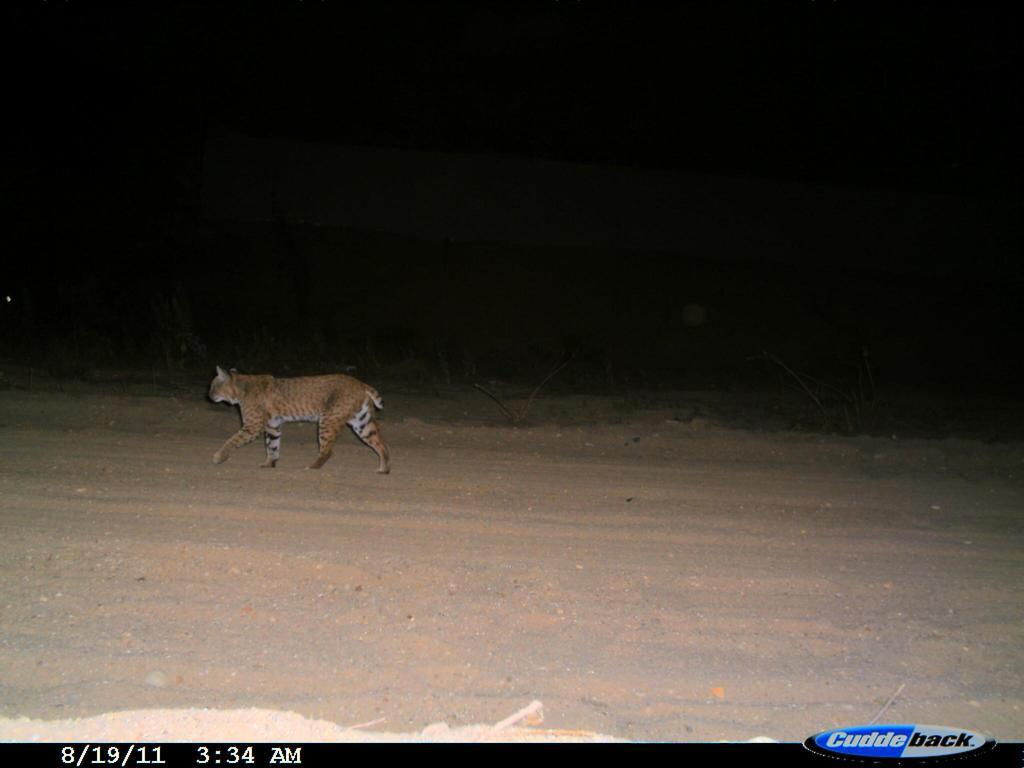bobcat: (189, 356, 415, 485)
